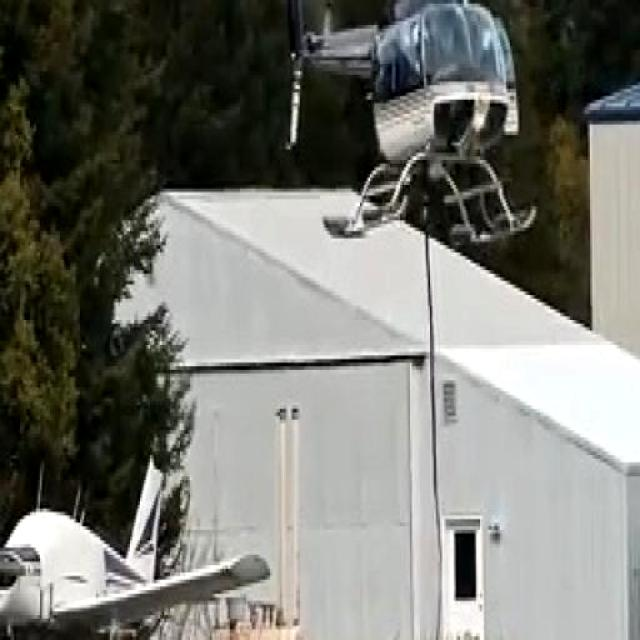drone: (275, 0, 542, 252)
